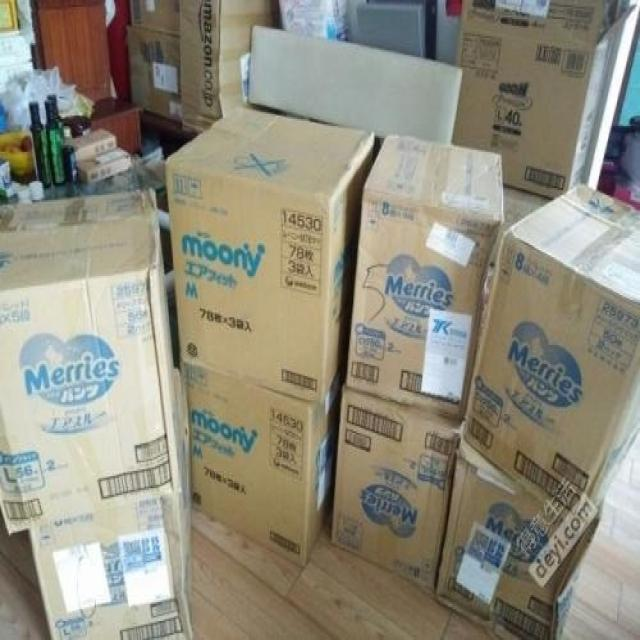box: (0, 188, 182, 536), (165, 105, 374, 402), (462, 181, 640, 526), (29, 361, 192, 640), (346, 135, 504, 419), (435, 430, 607, 640), (453, 0, 622, 200), (182, 364, 338, 569), (330, 385, 463, 593), (179, 0, 278, 133), (582, 0, 640, 190), (128, 28, 182, 124), (131, 0, 179, 35)
